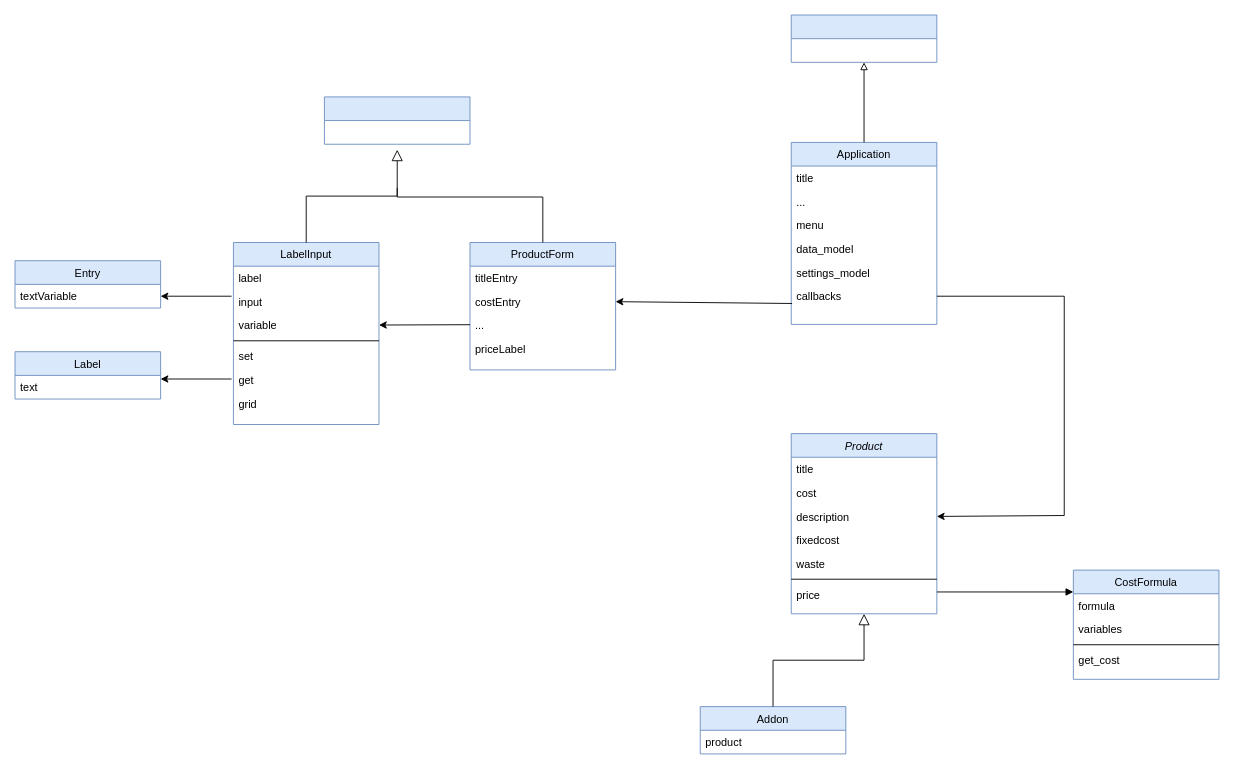
Image size: 1234x769. Some labels were removed from this diagram. The shapes that lost their labels are listed below. From the top down, each one's centre as x and y in pixels, then its label:
At (x=863, y=38): "TK".
At (x=397, y=120): "Frame".
